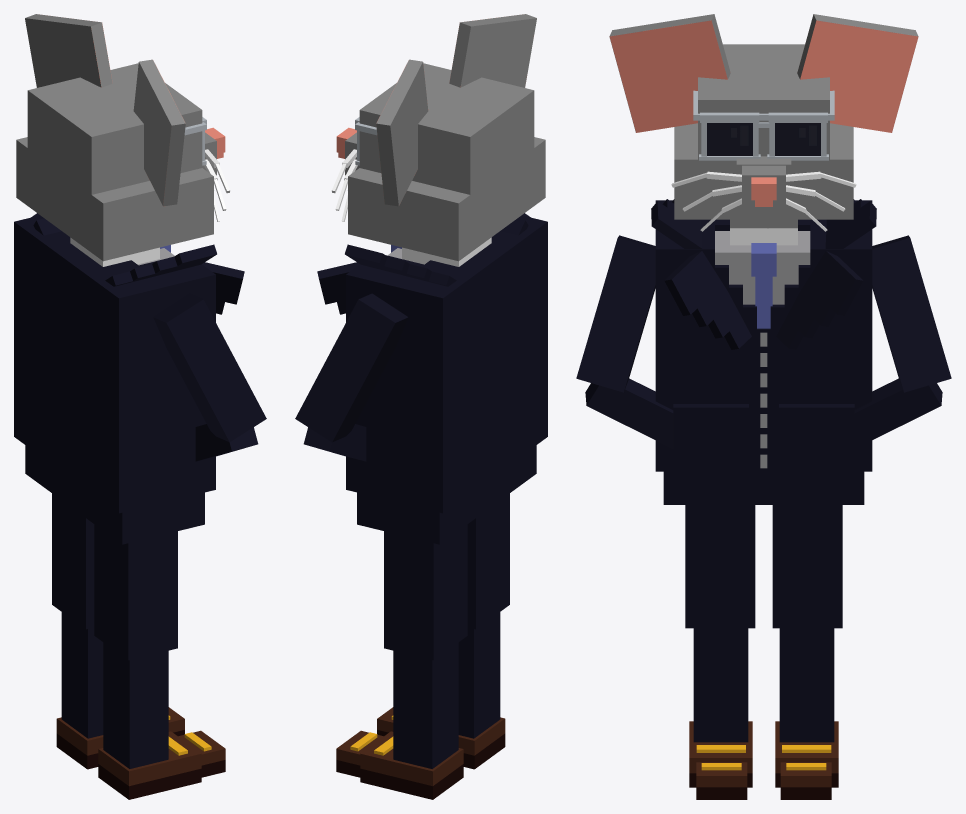
Rendered from tem cheese2.fbx.
The picture shows the model from 3 angles, left to right: view 1: azimuth 30°, elevation 25°; view 2: azimuth 150°, elevation 25°; view 3: azimuth 270°, elevation 25°; orthographic projection. The views are drawn at different scales.
Parts seen in each view (by area): view 1: T_C, T_C.011, T_C.008, T_C.003, T_C.005, T_C.007, T_C.004, T_C.010; view 2: T_C, T_C.011, T_C.007, T_C.004, T_C.010, T_C.008, T_C.003, T_C.005; view 3: T_C, T_C.011, T_C.007, T_C.008, T_C.003, T_C.004, T_C.005, T_C.010.
Part boxes in pixels (x1=…): T_C: x1=14, y1=213, x2=266, y2=544; T_C.011: x1=16, y1=14, x2=230, y2=261; T_C.008: x1=94, y1=524, x2=177, y2=660; T_C.003: x1=103, y1=642, x2=168, y2=768; T_C.005: x1=98, y1=730, x2=225, y2=799; T_C.007: x1=52, y1=493, x2=94, y2=629; T_C.004: x1=61, y1=612, x2=103, y2=738; T_C.010: x1=56, y1=707, x2=184, y2=769; T_C: x1=295, y1=213, x2=547, y2=544; T_C.011: x1=331, y1=14, x2=545, y2=261; T_C.007: x1=384, y1=524, x2=467, y2=660; T_C.004: x1=393, y1=642, x2=458, y2=768; T_C.010: x1=336, y1=730, x2=463, y2=799; T_C.008: x1=467, y1=493, x2=509, y2=629; T_C.003: x1=458, y1=612, x2=500, y2=738; T_C.005: x1=377, y1=707, x2=505, y2=769; T_C: x1=576, y1=199, x2=951, y2=504; T_C.011: x1=609, y1=14, x2=918, y2=231; T_C.007: x1=772, y1=505, x2=842, y2=628; T_C.008: x1=685, y1=505, x2=755, y2=628; T_C.003: x1=693, y1=628, x2=748, y2=742; T_C.004: x1=779, y1=628, x2=834, y2=742; T_C.005: x1=689, y1=721, x2=752, y2=799; T_C.010: x1=775, y1=721, x2=838, y2=799.
Size of the model in its own units: 147 by 637 by 290.
